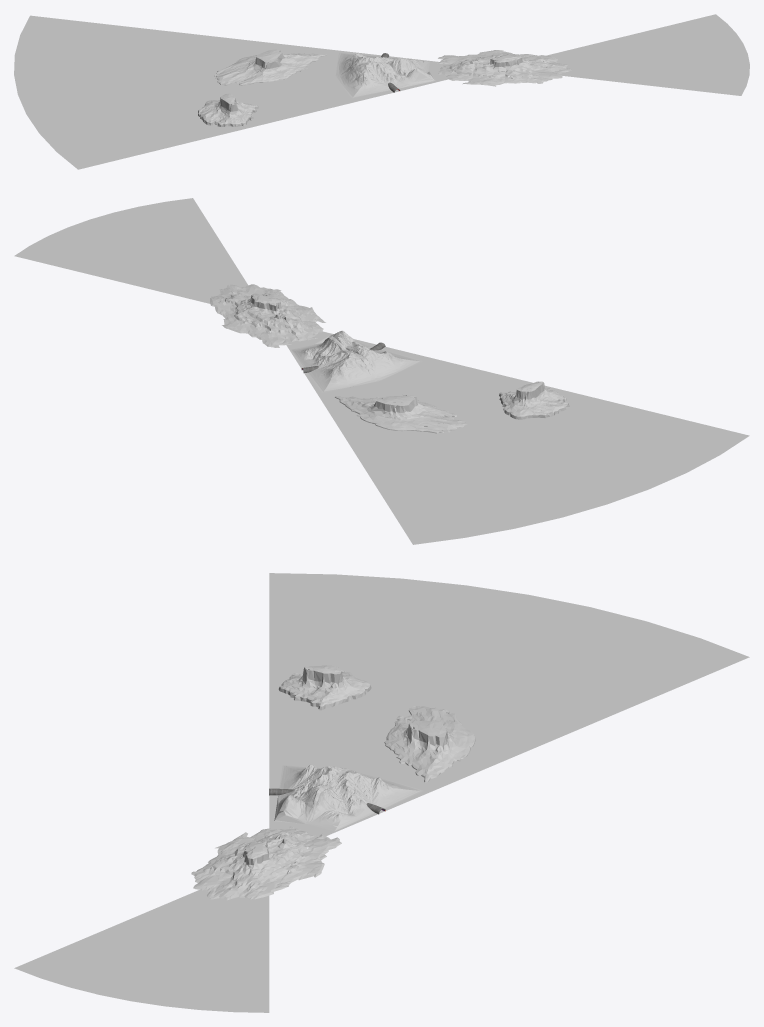
Rendered from Rock_relis_r45.FBX.
The picture shows the model from 3 angles, top to bottom: view 1: azimuth 30°, elevation 25°; view 2: azimuth 150°, elevation 25°; view 3: azimuth 270°, elevation 25°; orthographic projection. The views are drawn at different scales.
Parts seen in each view (by area): view 1: grunt002, Plane020, Plane012, Plane021, Plane019; view 2: grunt002, Plane020, Plane012, Plane021, Plane019; view 3: grunt002, Plane020, Plane012, Plane021, Plane019.
Part boxes in pixels (box(x1,y1,x2,y2)): grunt002: box(14, 14, 749, 169); Plane020: box(437, 50, 571, 86); Plane012: box(335, 52, 435, 98); Plane021: box(214, 49, 326, 85); Plane019: box(198, 93, 258, 126); grunt002: box(14, 198, 749, 544); Plane020: box(210, 284, 325, 347); Plane012: box(291, 330, 422, 392); Plane021: box(335, 394, 466, 433); Plane019: box(499, 381, 569, 419); grunt002: box(14, 573, 749, 1012); Plane020: box(191, 826, 341, 900); Plane012: box(274, 764, 423, 831); Plane021: box(384, 706, 475, 782); Plane019: box(278, 665, 371, 710).
Bounding box in the file's own units: 5000 × 3536 × 130.
